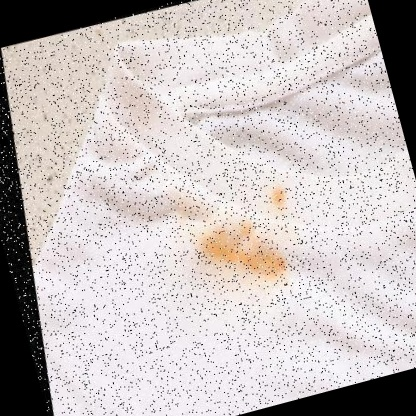kimchi: (194, 207, 289, 290), (254, 181, 292, 219)
